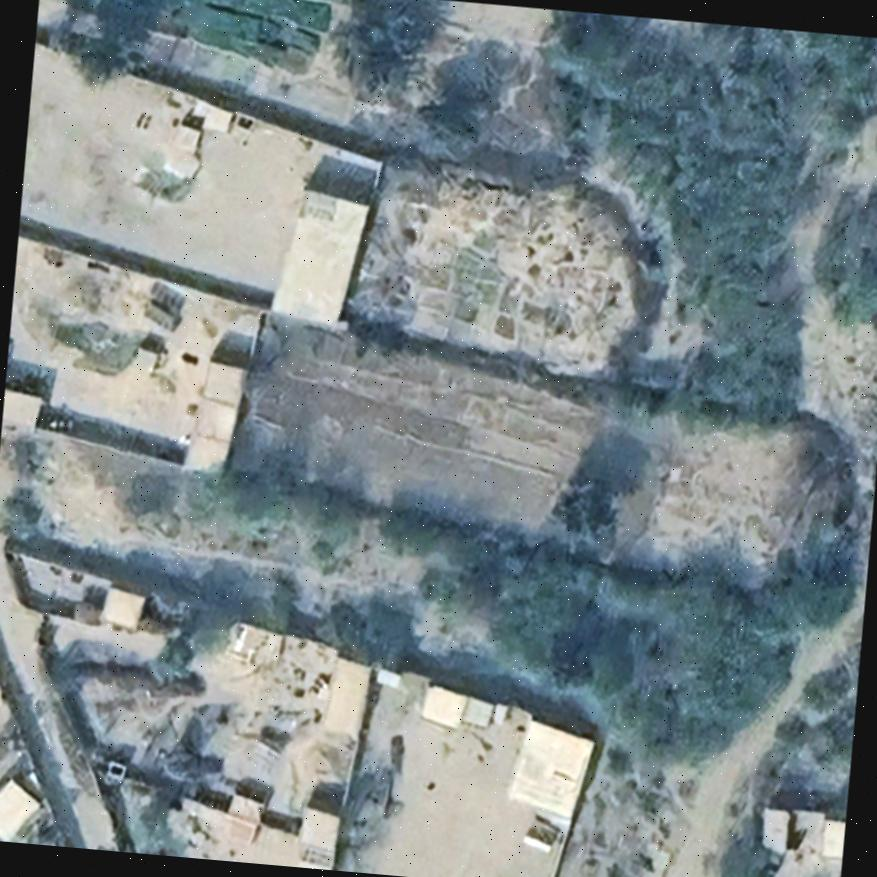Solarpanel: (133, 291, 189, 340)
